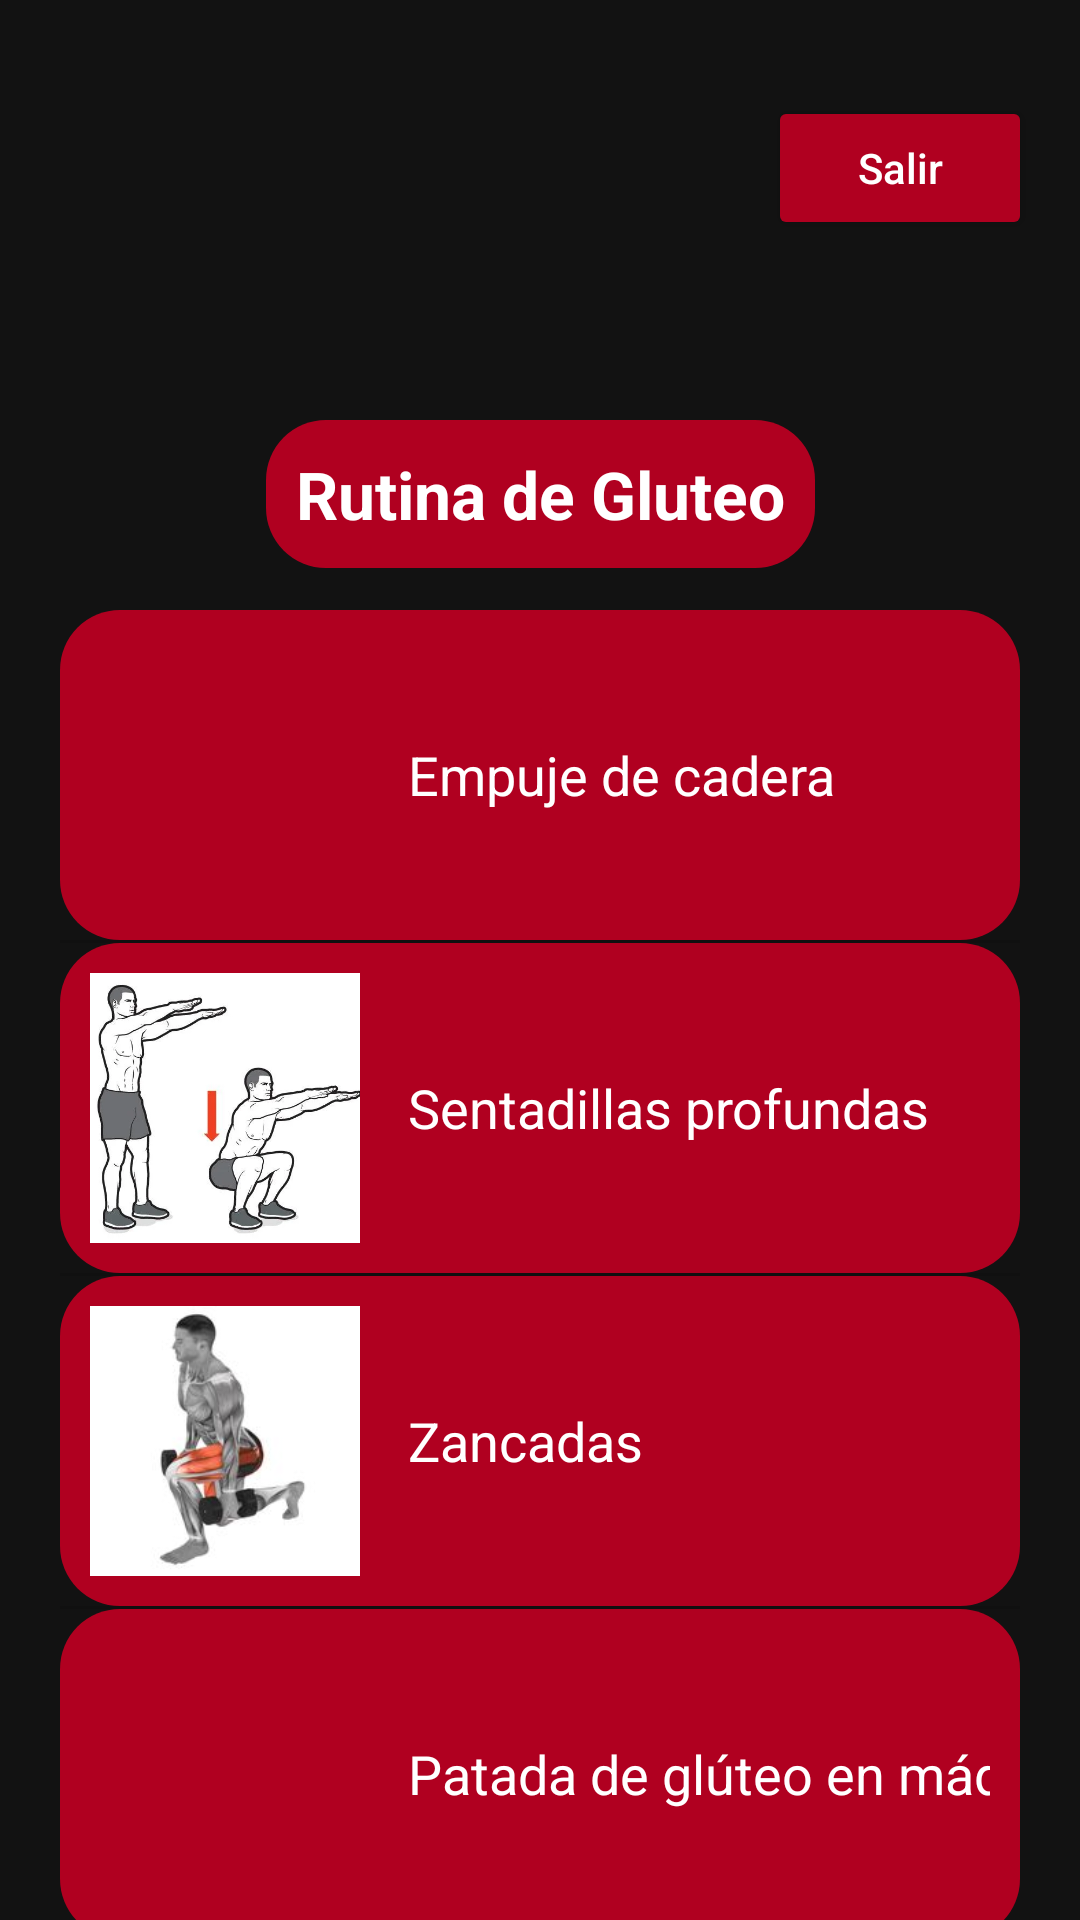

Icons on this 1080px x 1920px Android screen, each with its box as (x1, y1, x2, y2):
Ejercicio 2: (90, 973, 360, 1243)
Ejercicio 3: (90, 1306, 360, 1576)
